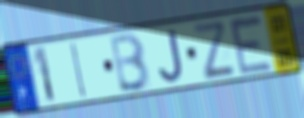1: (32, 44, 57, 106)
B: (109, 31, 152, 95)
E: (226, 14, 275, 77)
I: (69, 40, 89, 101)
J: (157, 27, 186, 84)
Z: (190, 19, 238, 82)
